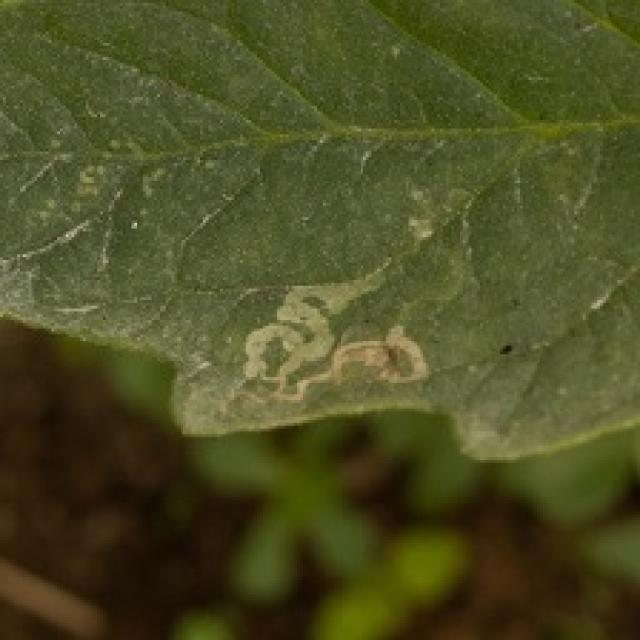Tuta absoluta: (229, 267, 428, 416)
